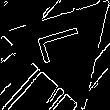L_E: (36, 25, 94, 70)
